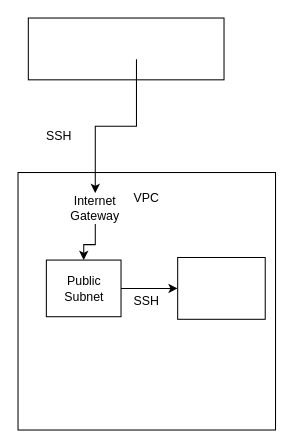
Some shapes in this 294 by 448 pixel diagram are drawn without their labels. Each missing label, with the centre of its shape:
My computer: (x=125, y=48)
Private Subnet: (x=221, y=287)
